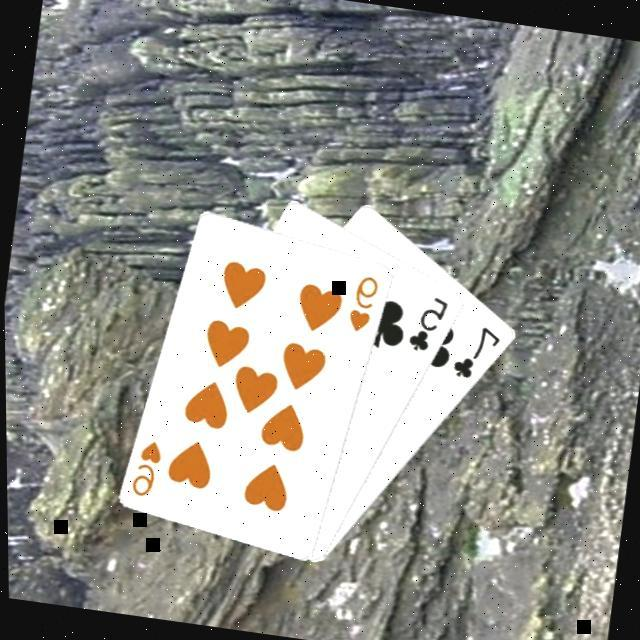5C: (401, 289, 451, 356)
7C: (444, 318, 504, 384)
9H: (342, 269, 382, 336), (124, 434, 165, 499)
